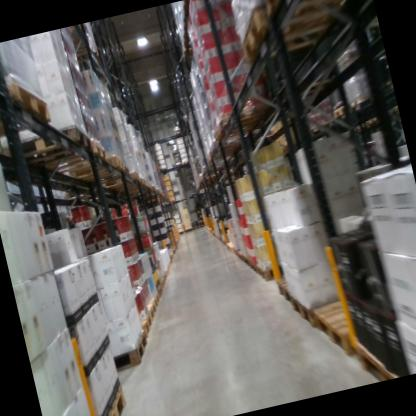pallet: (233, 0, 371, 69), (309, 287, 372, 369), (0, 119, 95, 168), (18, 129, 109, 179), (0, 73, 61, 138), (350, 321, 404, 386), (208, 97, 279, 145), (101, 330, 153, 377), (260, 0, 361, 22), (87, 376, 133, 416), (64, 154, 125, 182), (276, 272, 316, 314), (290, 290, 321, 336), (79, 163, 132, 186), (98, 169, 142, 193), (255, 257, 288, 287), (344, 87, 375, 118), (64, 181, 101, 206), (134, 311, 157, 346), (353, 116, 375, 132), (332, 102, 350, 121), (146, 300, 158, 324), (150, 292, 161, 311), (308, 121, 324, 134), (155, 284, 165, 300), (371, 113, 381, 125)
